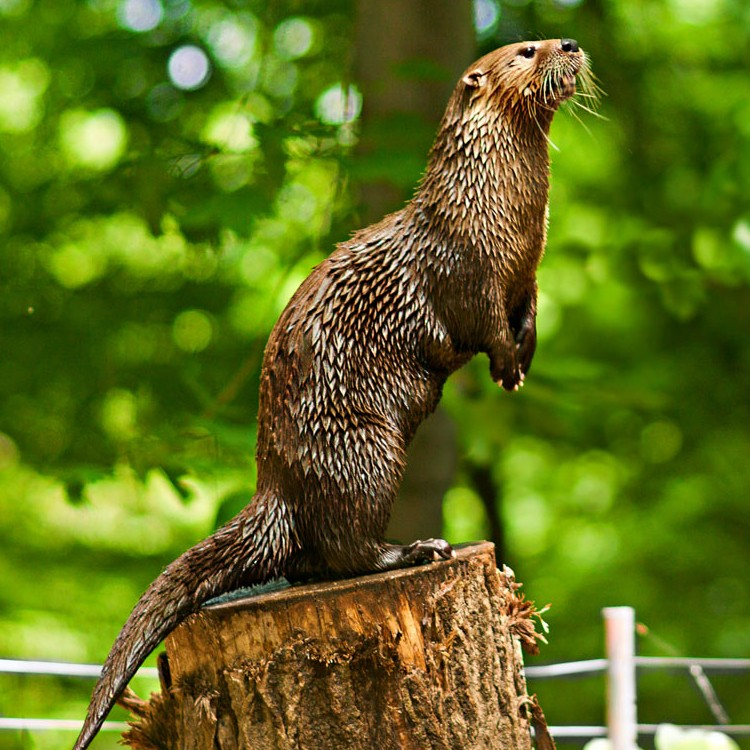otter: (170, 22, 635, 632)
